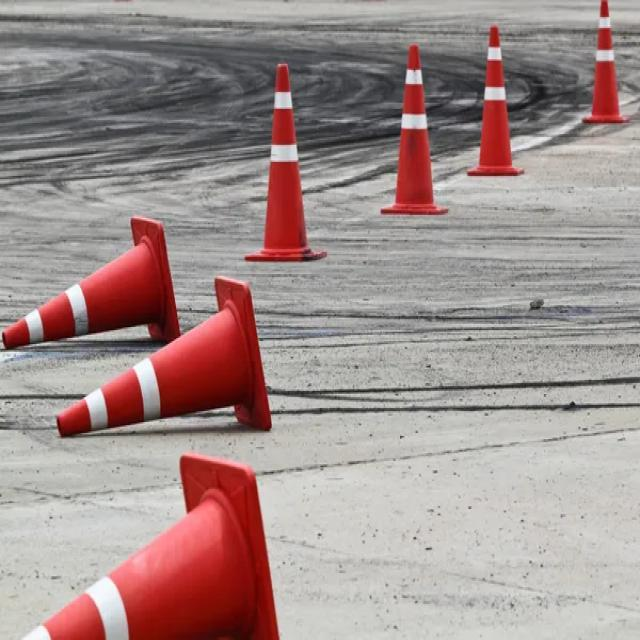Traffic Cone: (53, 268, 293, 455), (1, 195, 192, 374), (220, 54, 348, 280), (374, 16, 458, 249), (467, 12, 536, 199), (567, 0, 634, 144)
